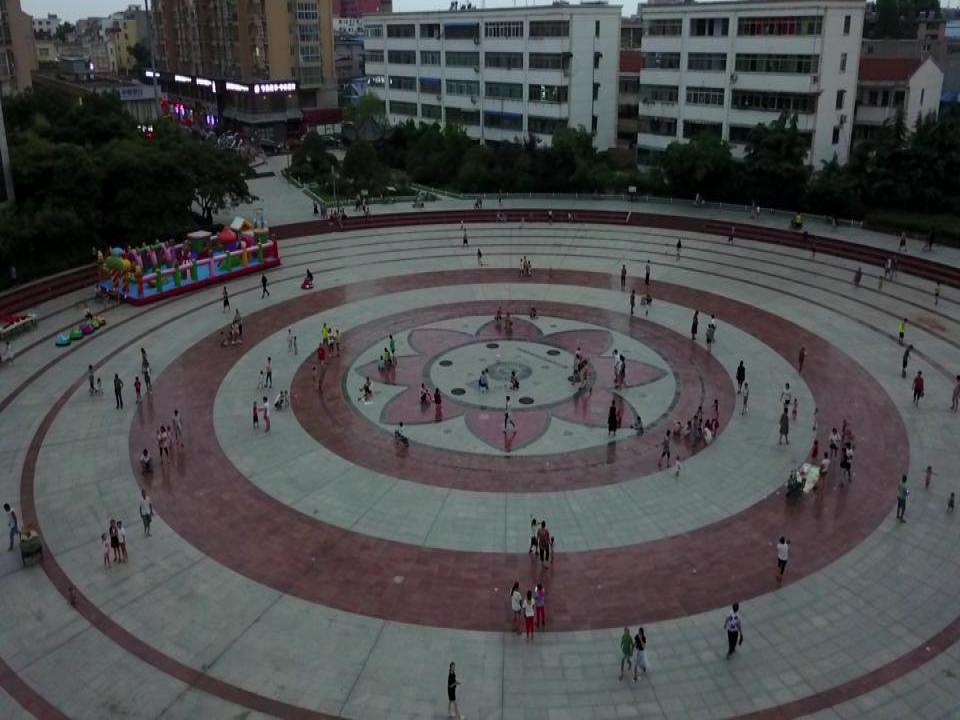car: (320, 135, 342, 148), (283, 139, 305, 152), (831, 217, 836, 232)
van: (253, 137, 283, 155)
